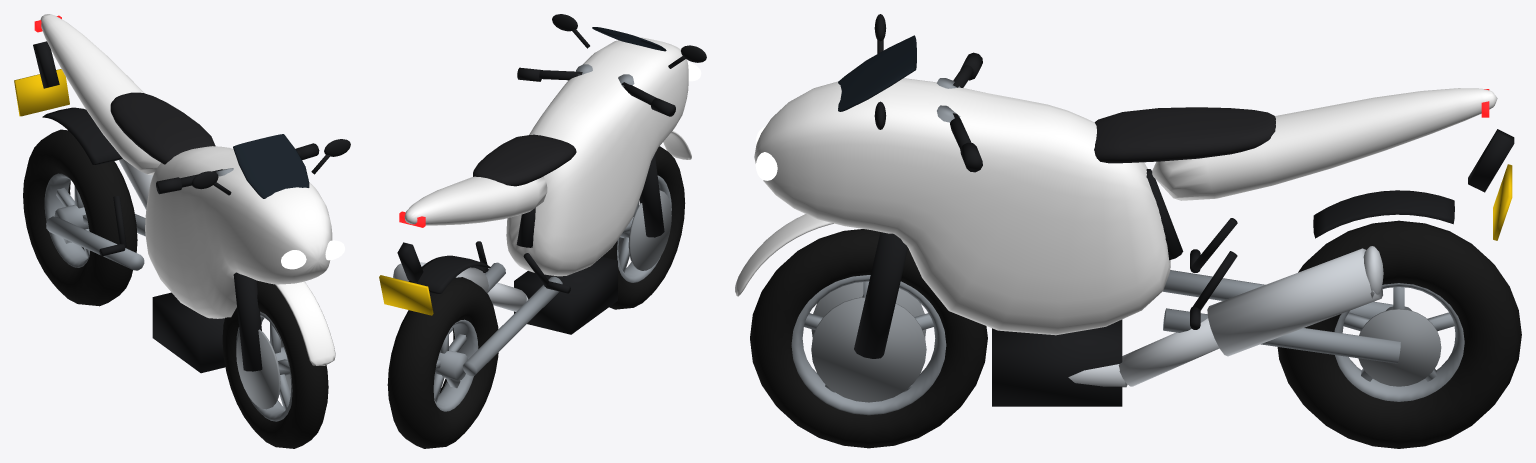
The model's file is bike.glb.
3 views of the same model, side by side, from view 1: azimuth 30°, elevation 25°; view 2: azimuth 150°, elevation 25°; view 3: azimuth 270°, elevation 25° (orthographic). The views are drawn at different scales.
Parts seen in each view (by area): view 1: Fairing, Running, WheelRTyre, WheelFTyre, Tail, Seat, Screen, Guard, WheelRRim, WheelFDisc, Arm, Plate (+3 smaller); view 2: Fairing, Running, WheelRTyre, Tail, Seat, WheelFTyre, Arm, WheelRRim, WheelFDisc, Plate, Exhaust, WheelFRim (+2 smaller); view 3: Fairing, WheelRTyre, Running, WheelFTyre, Tail, Exhaust, WheelFDisc, Seat, Arm, WheelFRim, WheelRDisc, WheelRRim (+3 smaller).
Part boxes in pixels (bbox=[...]): Fairing: bbox=[145, 146, 332, 318]; Running: bbox=[33, 41, 350, 373]; WheelRTyre: bbox=[23, 129, 137, 306]; WheelFTyre: bbox=[222, 280, 328, 448]; Tail: bbox=[40, 14, 160, 174]; Seat: bbox=[110, 92, 215, 164]; Screen: bbox=[233, 134, 309, 198]; Guard: bbox=[275, 281, 335, 365]; WheelRRim: bbox=[44, 173, 89, 267]; WheelFDisc: bbox=[236, 329, 291, 409]; Arm: bbox=[46, 168, 233, 270]; Plate: bbox=[14, 69, 69, 116]; Fairing: bbox=[506, 37, 688, 276]; Running: bbox=[397, 14, 706, 334]; WheelRTyre: bbox=[387, 277, 498, 448]; Tail: bbox=[404, 176, 547, 225]; Seat: bbox=[473, 134, 576, 186]; WheelFTyre: bbox=[602, 146, 685, 309]; Arm: bbox=[449, 64, 634, 376]; WheelRRim: bbox=[433, 319, 478, 411]; WheelFDisc: bbox=[618, 190, 671, 270]; Plate: bbox=[379, 275, 433, 315]; Exhaust: bbox=[393, 262, 528, 311]; WheelFRim: bbox=[617, 175, 671, 282]; Fairing: bbox=[754, 78, 1170, 335]; WheelRTyre: bbox=[1277, 220, 1521, 448]; Running: bbox=[854, 14, 1514, 406]; WheelFTyre: bbox=[750, 229, 987, 448]; Tail: bbox=[1152, 88, 1497, 200]; Exhaust: bbox=[1068, 246, 1383, 387]; WheelFDisc: bbox=[811, 282, 926, 402]; Seat: bbox=[1094, 107, 1275, 163]; Arm: bbox=[936, 78, 1400, 363]; WheelFRim: bbox=[791, 275, 946, 415]; WheelRDisc: bbox=[1358, 309, 1441, 386]; WheelRRim: bbox=[1334, 283, 1464, 401].
Size of the model in its own units: 0.65 by 1.14 by 2.05.
